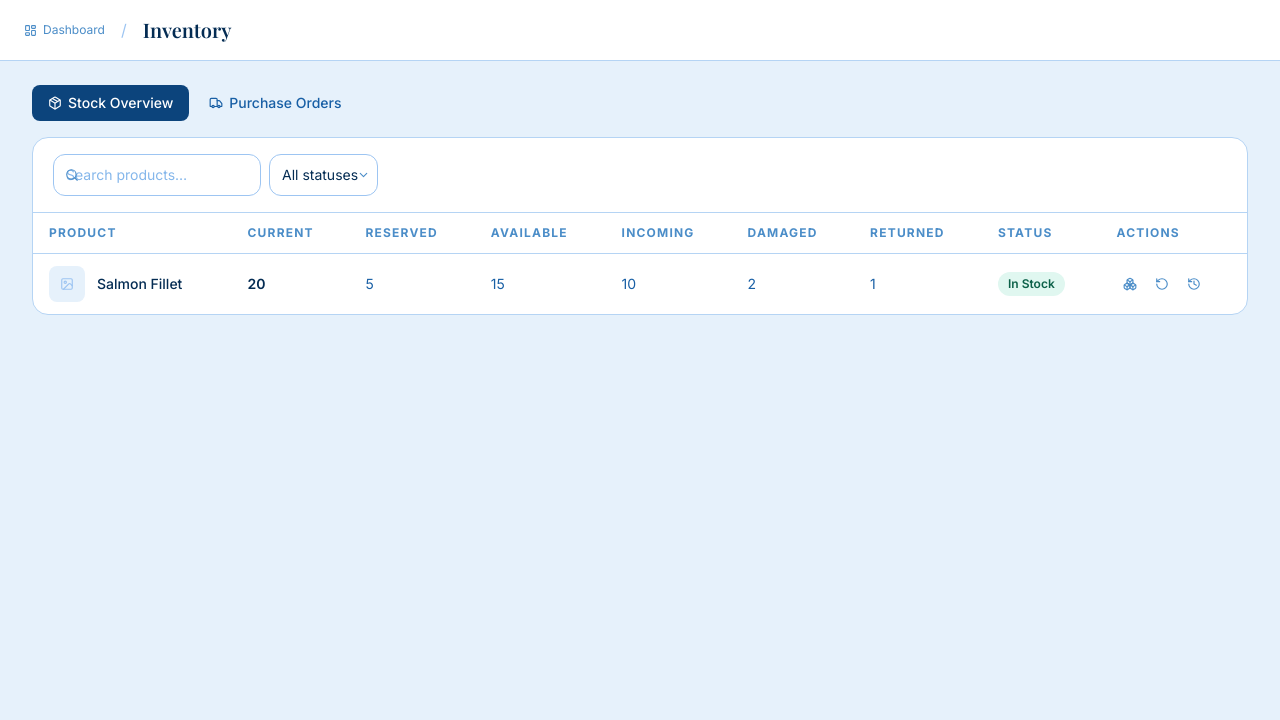
AdminInventoryPage — Stock Overview › shows stock history in the modal
Expected: the text "Salmon Fillet" is shown, [97,274,182,294]
Click the button titled "Stock History" at [1194, 284], box [1180,271,1206,297]
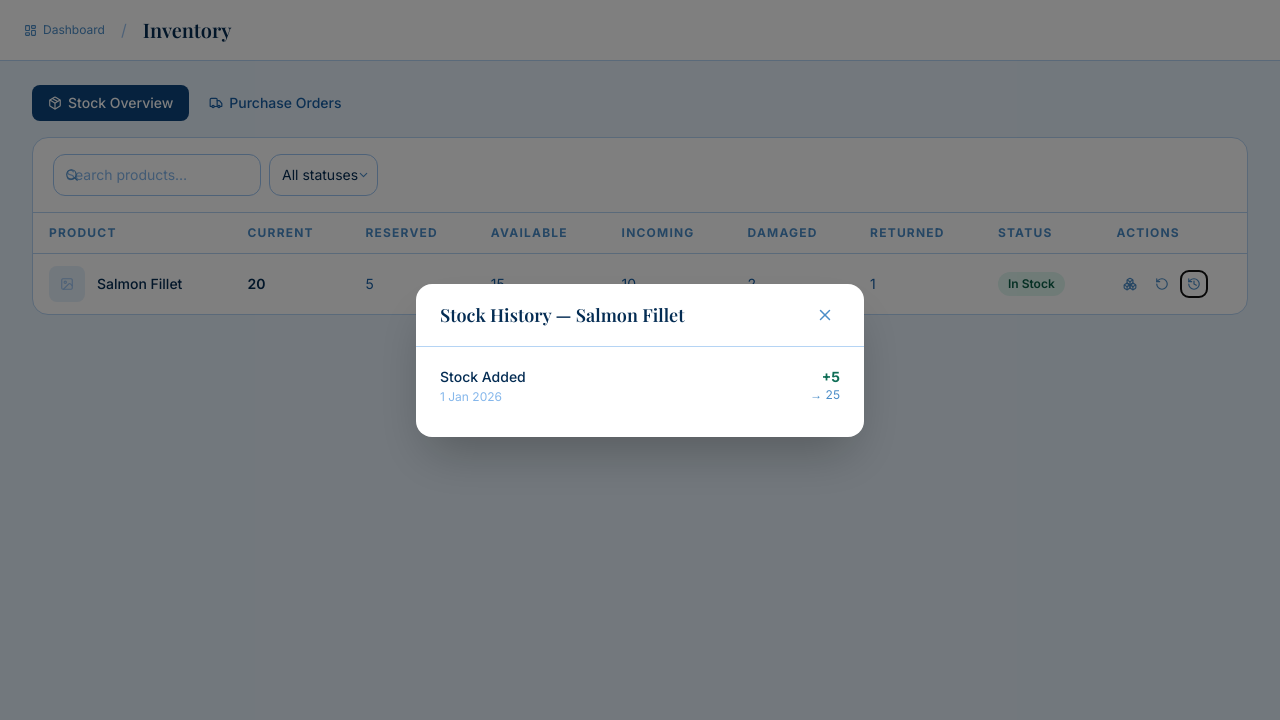
Expected: the text "Stock Added" is shown, [440,366,526,386]
Expected: the text "+5" is shown, [822,368,840,384]
